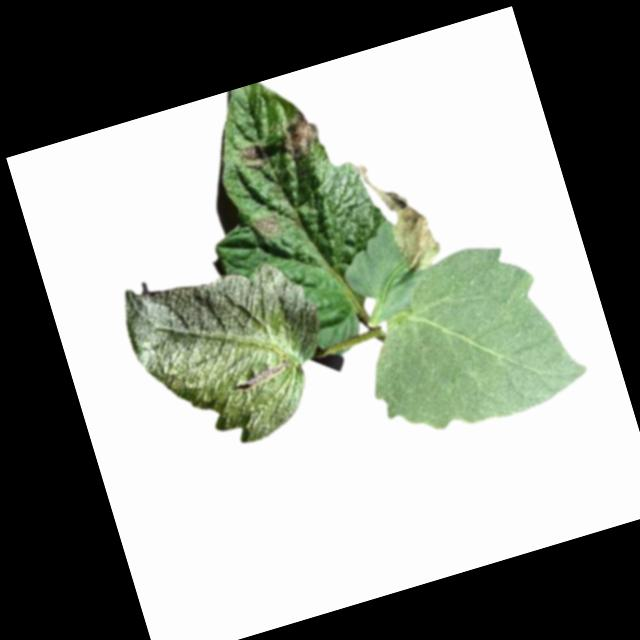Late_blight: (368, 160, 446, 276), (278, 109, 323, 164), (252, 208, 289, 241), (238, 141, 268, 169)
